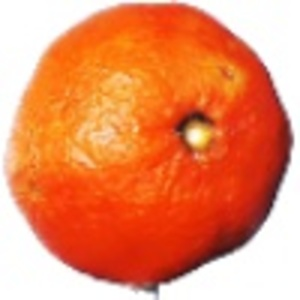tangerina: (2, 1, 295, 300)
